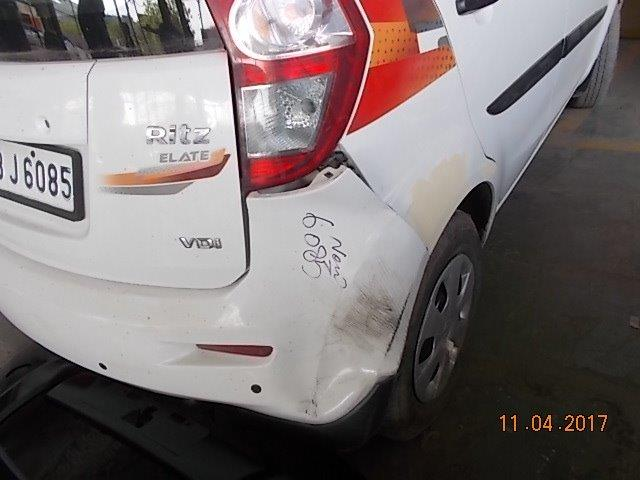Dent: (303, 256, 401, 392)
